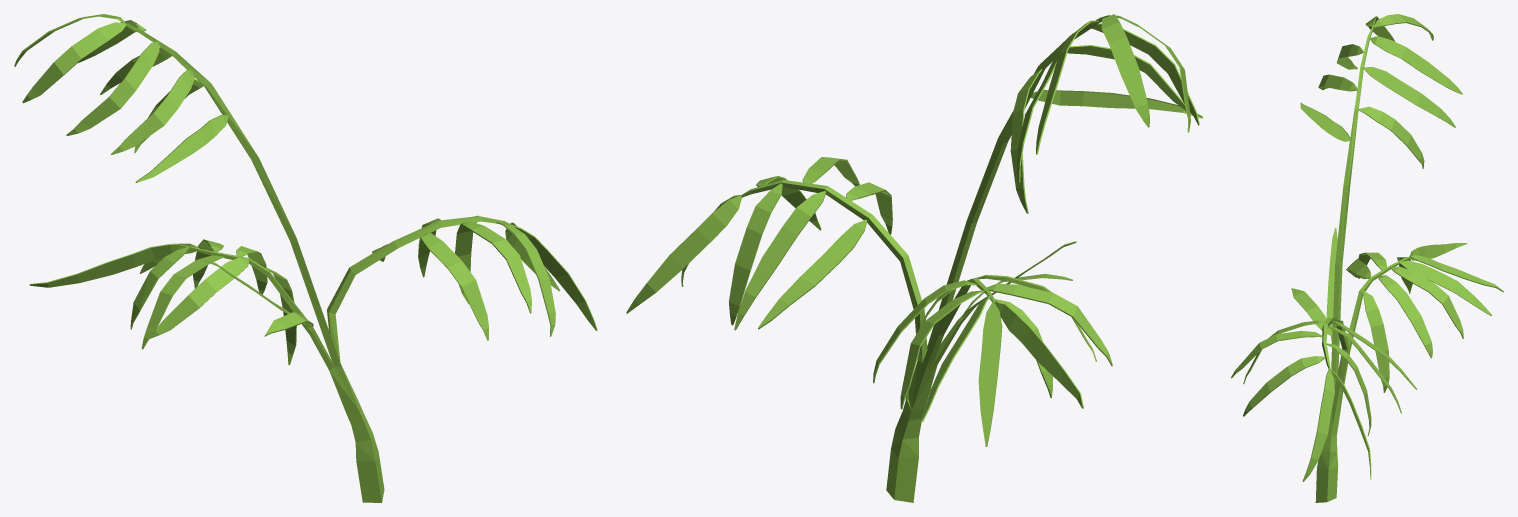
Rendered from dill-plant.glb.
The picture shows the model from 3 angles, left to right: view 1: azimuth 30°, elevation 25°; view 2: azimuth 150°, elevation 25°; view 3: azimuth 270°, elevation 25°; orthographic projection. The views are drawn at different scales.
Parts seen in each view (by area): view 1: group1553806384; view 2: group1553806384; view 3: group1553806384.
Part boxes in pixels (box(x1,y1,x2,y2)): group1553806384: box(14, 14, 597, 502); group1553806384: box(626, 14, 1202, 502); group1553806384: box(1231, 14, 1503, 502).
Size of the model in its own units: 1 by 0.9425 by 0.5852.
